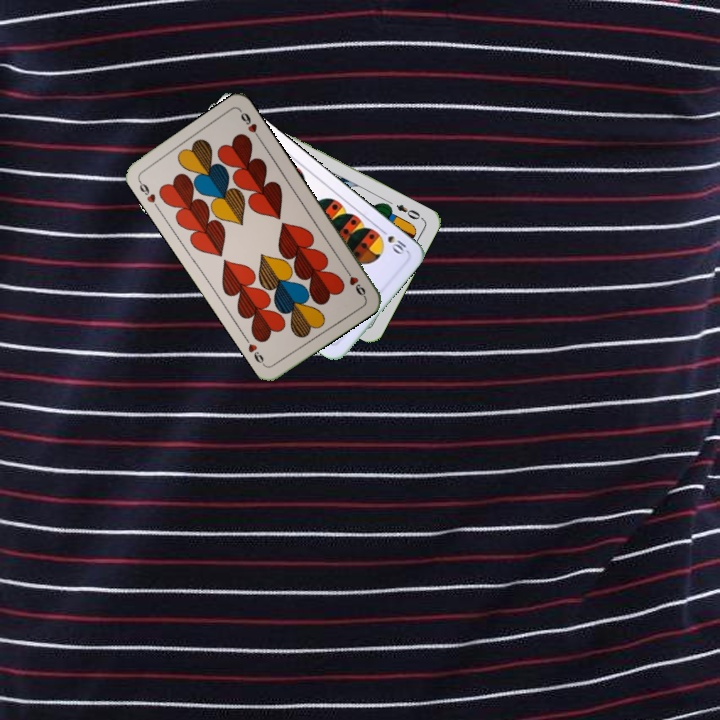EO: (392, 200, 426, 222)
H9: (134, 176, 162, 212), (341, 264, 368, 300)
S10: (376, 224, 409, 257)
